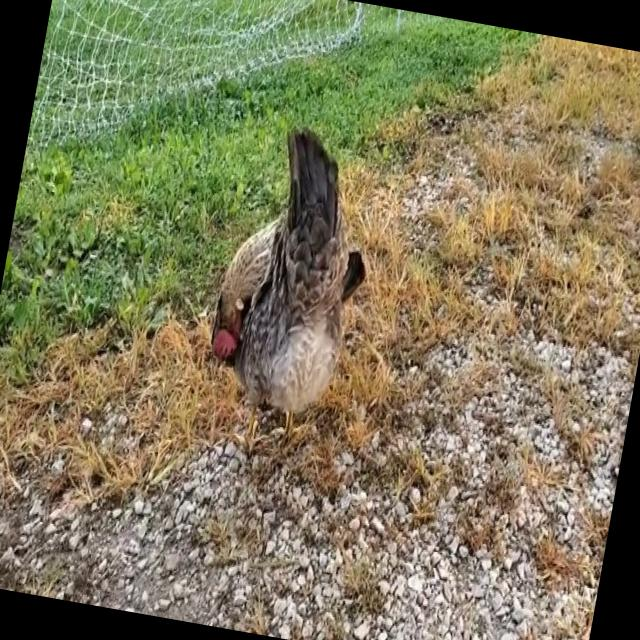self preening: (180, 104, 389, 462)
